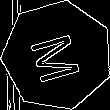M_E: (26, 26, 88, 85)
